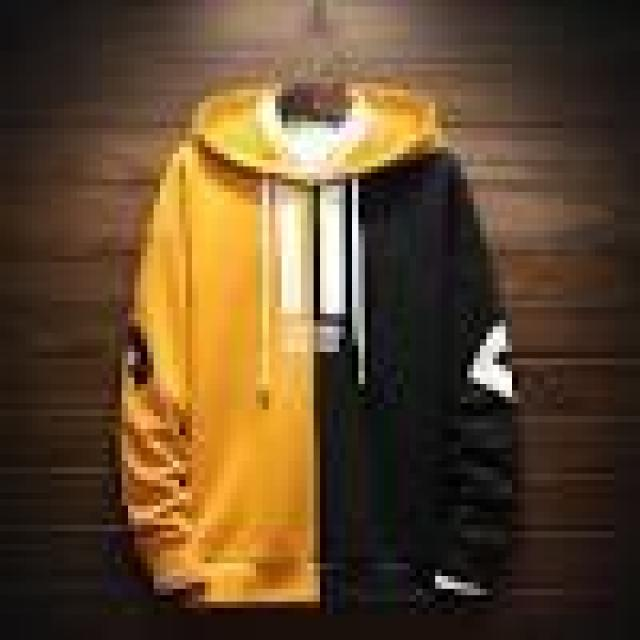sweater: (112, 86, 522, 612)
